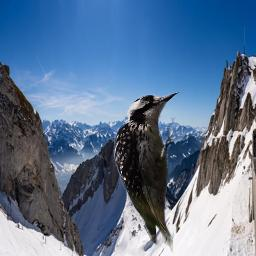Woodpecker: (108, 84, 184, 253)
